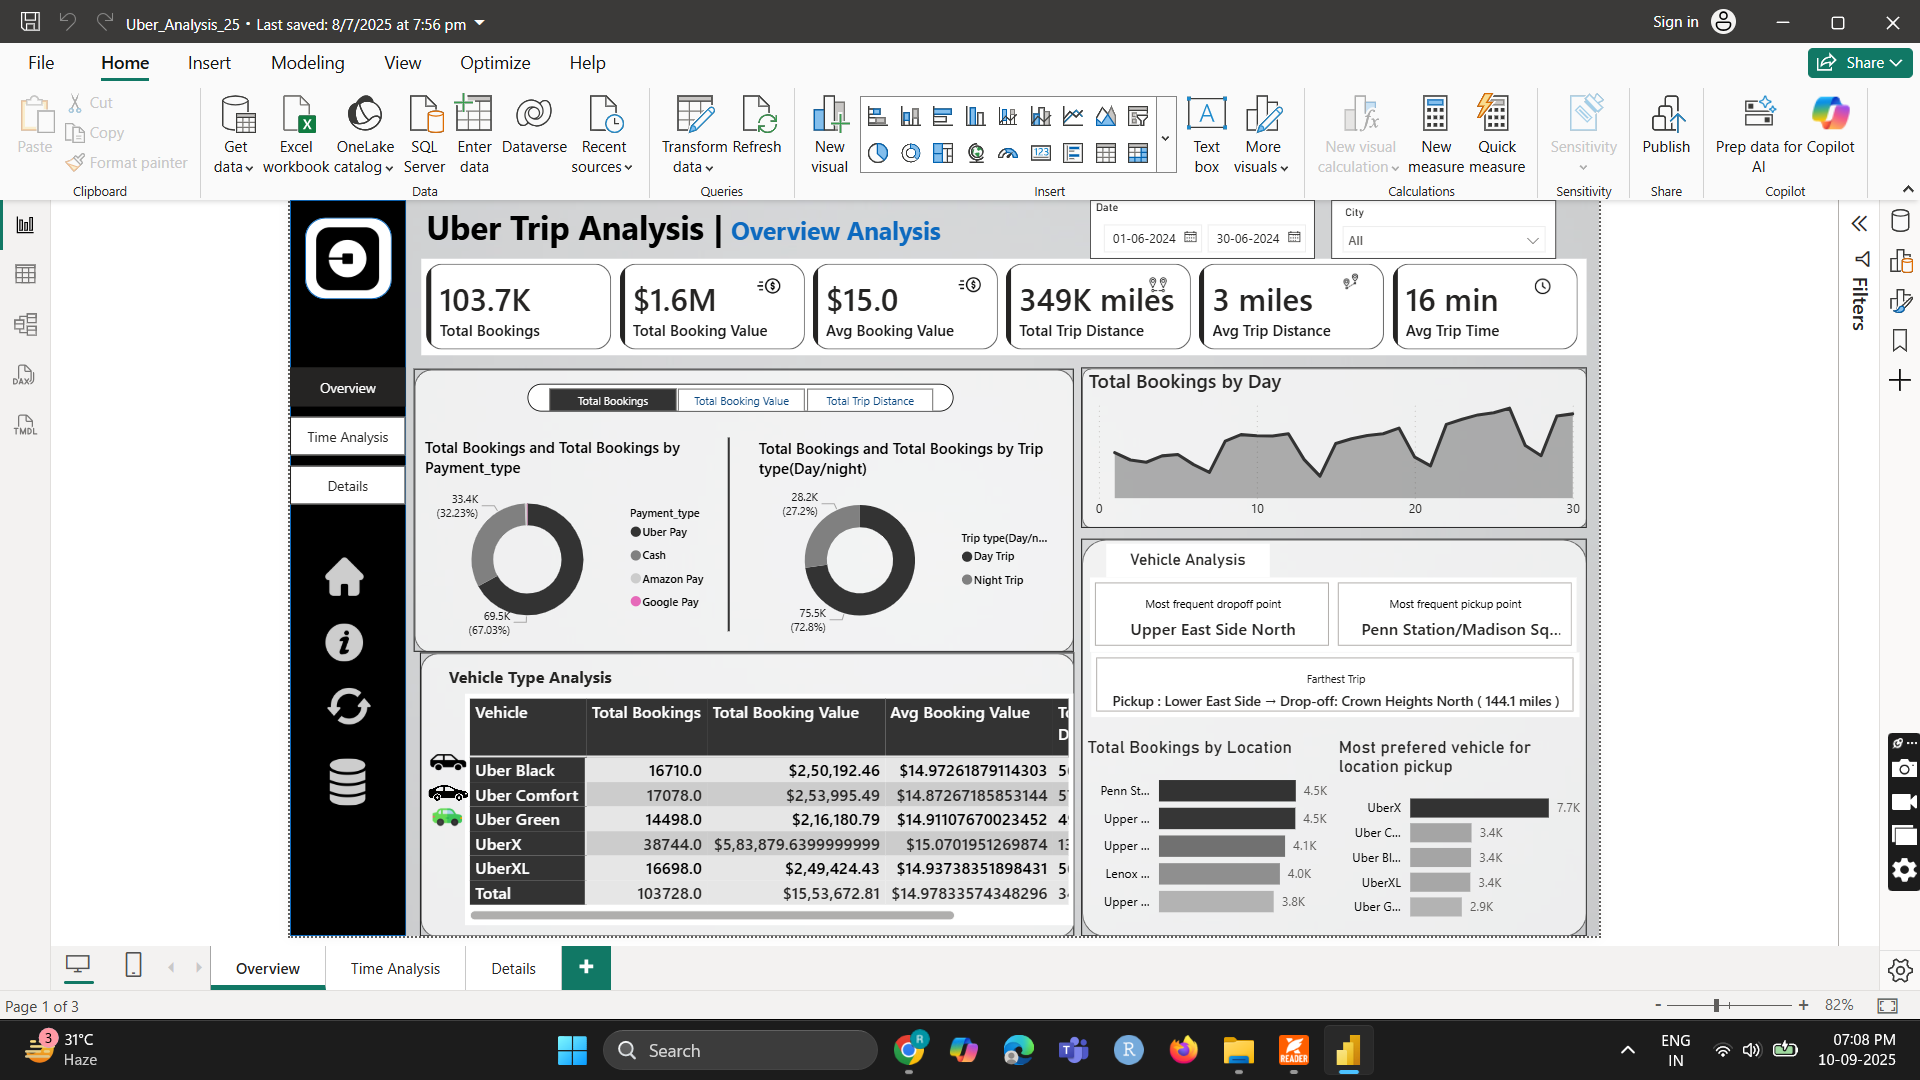

What the dashboard file says about the page in this screenshot:
{"tool":"powerbi","page":{"name":"Overview","canvas":[1280,720],"ordinal":0},"visuals":[{"type":"shape","box":[0,0,113.8,720],"z":0},{"type":"shape","box":[121.4,164.9,645.3,277.1],"z":1000},{"type":"textbox","box":[128.6,0,591.4,62.9],"z":2000},{"type":"cardVisual","fields":{"Data":["Trip Details.Total Bookings","Trip Details.Total Booking Value","Trip Details.Avg Booking Amount","Trip Details.Total Trip Distance","Trip Details.Avg Trip Distance","Trip Details.Avg Trip Time"]},"box":[128.9,58,1140,94.3],"z":2000,"group":"g1"},{"type":"image","box":[836.1,70.2,27.5,26.2],"z":3000,"group":"g1"},{"type":"slicer","fields":{"Values":["dynamic measure .dynamic measure "]},"box":[232.8,179.6,416.9,27.4],"z":3000},{"type":"group","id":"g1","title":"Group 1","box":[128.9,58,1140,94.3],"z":4000},{"type":"image","box":[453.6,67.7,32.5,33.8],"z":4000,"group":"g1"},{"type":"image","box":[1213.6,67.7,25,33.8],"z":5000,"group":"g1"},{"type":"donutChart","fields":{"Y":["Trip Details.Total Bookings","Trip Details.Total Bookings"],"Category":["Trip Details.Payment_type"]},"box":[126.7,230.9,299.5,201.9],"z":5000},{"type":"image","box":[1021.1,67.7,33.8,25],"z":6000,"group":"g1"},{"type":"donutChart","fields":{"Y":["Trip Details.Total Bookings","Trip Details.Total Bookings"],"Category":["Trip Details.Trip type(Day/night)"]},"box":[453.9,232.2,302.2,200.6],"z":6000},{"type":"image","box":[649.8,67.7,31.2,31.2],"z":7000,"group":"g1"},{"type":"shape","box":[126.7,442.2,640,277.8],"z":7000},{"type":"shape","box":[774.1,331.4,494,388.9],"z":8000},{"type":"shape","box":[774.1,163.9,494,156.5],"z":9000},{"type":"pivotTable","fields":{"Rows":["Trip Details.Vehicle"],"Values":["Trip Details.Total Bookings","Trip Details.Total Booking Value","Trip Details.Avg Booking Value","Trip Details.Total Trip Distance"]},"box":[171.2,482.5,595,226.2],"z":10000},{"type":"textbox","box":[150,450,220,37.5],"z":11000},{"type":"image","box":[127.9,565,52.9,30.7],"z":12000},{"type":"lineChart","fields":{"Category":["Calender table.Date.Variation.Date Hierarchy.Day"],"Y":["Trip Details.Total Bookings"]},"box":[775.9,163.6,493.5,157],"z":13000},{"type":"image","box":[123.6,585,61.4,38.6],"z":14000},{"type":"image","box":[132.2,487.8,45.6,124.4],"z":15000},{"type":"clusteredBarChart","fields":{"Y":["Trip Details.Total Bookings"],"Category":["Location Table.Location"]},"box":[774.8,525.2,246.7,189],"z":16000},{"type":"clusteredBarChart","title":"Most prefered vehicle for location pickup","fields":{"Category":["Trip Details.Vehicle"],"Y":["CountNonNull(Trip Details.PULocationID)"]},"box":[1021.5,525.2,246.7,191.9],"z":17000},{"type":"cardVisual","fields":{"Data":["Trip Details.Most frequent dropoff point","Trip Details.Most frequent pickup point"]},"box":[782.5,369.5,476.4,72.6],"z":18000},{"type":"cardVisual","fields":{"Data":["Trip Details.Farthest Trip"]},"box":[783.8,442.1,477.7,63.3],"z":19000},{"type":"shape","box":[388.9,232.3,80.7,189.5],"z":20000},{"type":"card","fields":{"Values":["Trip Details.Title for Location"]},"box":[798.4,336.5,159.7,33],"z":21000},{"type":"slicer","title":"Date","fields":{"Values":["Calender table.Date"]},"box":[782.5,0,220,57.5],"z":22000},{"type":"slicer","fields":{"Values":["Location Table.City"]},"box":[1018.8,0,220,57.5],"z":23000},{"type":"shape","box":[15,17.5,85,80],"z":23001,"group":"g2"},{"type":"image","box":[21.2,17.5,71.2,80],"z":23002,"group":"g2"},{"type":"pageNavigator","box":[0,163.8,113.8,136.2],"z":23003},{"type":"group","id":"g2","title":"Group 2","box":[15,17.5,85,80],"z":23004},{"type":"image","box":[15,410,77.5,46.2],"z":23005},{"type":"image","box":[31.2,468.8,52.5,53.8],"z":23006},{"type":"image","box":[26.2,345,55,47.5],"z":23007},{"type":"image","box":[21.2,541.2,71.2,55],"z":23008}]}

Visuals, with their boxes on the page's 1280x720 design canvas (x1, y1, x2, y2). These are canvas units, not pixel positions in the 1920x1080 screenshot, which may show the page scaled, cropped or inside an application window:
shape: pyautogui.locateOnScreen(0, 0, 114, 720)
shape: pyautogui.locateOnScreen(121, 165, 767, 442)
textbox: pyautogui.locateOnScreen(129, 0, 720, 63)
cardVisual - Trip Details.Total Bookings x Trip Details.Total Booking Value: pyautogui.locateOnScreen(129, 58, 1269, 152)
image: pyautogui.locateOnScreen(836, 70, 864, 96)
slicer - dynamic measure .dynamic measure : pyautogui.locateOnScreen(233, 180, 650, 207)
"Group 1" group: pyautogui.locateOnScreen(129, 58, 1269, 152)
image: pyautogui.locateOnScreen(454, 68, 486, 102)
image: pyautogui.locateOnScreen(1214, 68, 1239, 102)
donutChart - Trip Details.Total Bookings x Trip Details.Total Bookings: pyautogui.locateOnScreen(127, 231, 426, 433)
image: pyautogui.locateOnScreen(1021, 68, 1055, 93)
donutChart - Trip Details.Total Bookings x Trip Details.Total Bookings: pyautogui.locateOnScreen(454, 232, 756, 433)
image: pyautogui.locateOnScreen(650, 68, 681, 99)
shape: pyautogui.locateOnScreen(127, 442, 767, 720)
shape: pyautogui.locateOnScreen(774, 331, 1268, 720)
shape: pyautogui.locateOnScreen(774, 164, 1268, 320)
pivotTable - Trip Details.Vehicle x Trip Details.Total Bookings: pyautogui.locateOnScreen(171, 482, 766, 709)
textbox: pyautogui.locateOnScreen(150, 450, 370, 488)
image: pyautogui.locateOnScreen(128, 565, 181, 596)
lineChart - Calender table.Date.Variation.Date Hierarchy.Day x Trip Details.Total Bookings: pyautogui.locateOnScreen(776, 164, 1269, 321)
image: pyautogui.locateOnScreen(124, 585, 185, 624)
image: pyautogui.locateOnScreen(132, 488, 178, 612)
clusteredBarChart - Trip Details.Total Bookings x Location Table.Location: pyautogui.locateOnScreen(775, 525, 1022, 714)
"Most prefered vehicle for location pickup" clusteredBarChart: pyautogui.locateOnScreen(1022, 525, 1268, 717)
cardVisual - Trip Details.Most frequent dropoff point x Trip Details.Most frequent pickup point: pyautogui.locateOnScreen(782, 370, 1259, 442)
cardVisual - Trip Details.Farthest Trip: pyautogui.locateOnScreen(784, 442, 1262, 505)
shape: pyautogui.locateOnScreen(389, 232, 470, 422)
card - Trip Details.Title for Location: pyautogui.locateOnScreen(798, 336, 958, 370)
"Date" slicer: pyautogui.locateOnScreen(782, 0, 1002, 58)
slicer - Location Table.City: pyautogui.locateOnScreen(1019, 0, 1239, 58)
shape: pyautogui.locateOnScreen(15, 18, 100, 98)
image: pyautogui.locateOnScreen(21, 18, 92, 98)
pageNavigator: pyautogui.locateOnScreen(0, 164, 114, 300)
"Group 2" group: pyautogui.locateOnScreen(15, 18, 100, 98)
image: pyautogui.locateOnScreen(15, 410, 92, 456)
image: pyautogui.locateOnScreen(31, 469, 84, 523)
image: pyautogui.locateOnScreen(26, 345, 81, 392)
image: pyautogui.locateOnScreen(21, 541, 92, 596)
